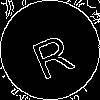R: (25, 25, 76, 81)
